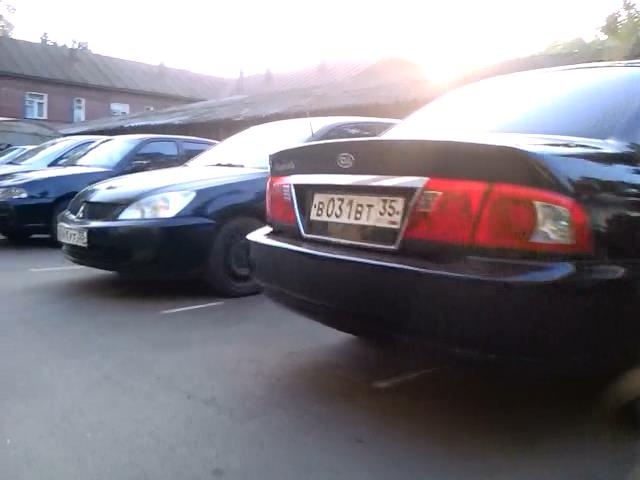car license plate: (307, 191, 406, 231), (56, 224, 91, 251)
